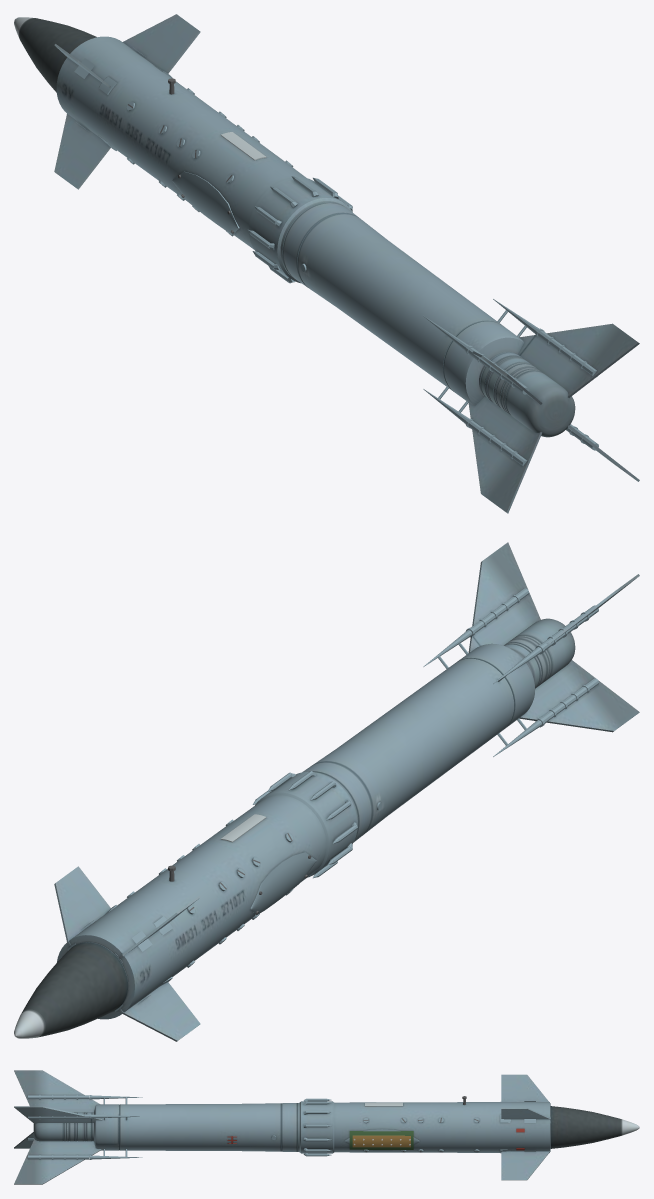
Rendered from msl_tor.glb.
The picture shows the model from 3 angles, top to bottom: view 1: azimuth 30°, elevation 25°; view 2: azimuth 150°, elevation 25°; view 3: azimuth 270°, elevation 25°; orthographic projection. The views are drawn at different scales.
Parts seen in each view (by area): view 1: M331_body, M331_fins, M331_hw; view 2: M331_body, M331_fins, M331_hw; view 3: M331_body, M331_fins, M331_hw.
Part boxes in pixels (<box>): M331_body: <box>14,17,575,437</box>; M331_fins: <box>54,14,639,513</box>; M331_hw: <box>74,47,598,465</box>; M331_body: <box>14,618,575,1038</box>; M331_fins: <box>54,542,639,1041</box>; M331_hw: <box>67,588,598,1011</box>; M331_body: <box>33,1101,639,1153</box>; M331_fins: <box>14,1070,550,1184</box>; M331_hw: <box>28,1094,550,1159</box>.
Size of the model in its own units: 0.4135 by 0.4135 by 3.
10 materials, 3 textured.
